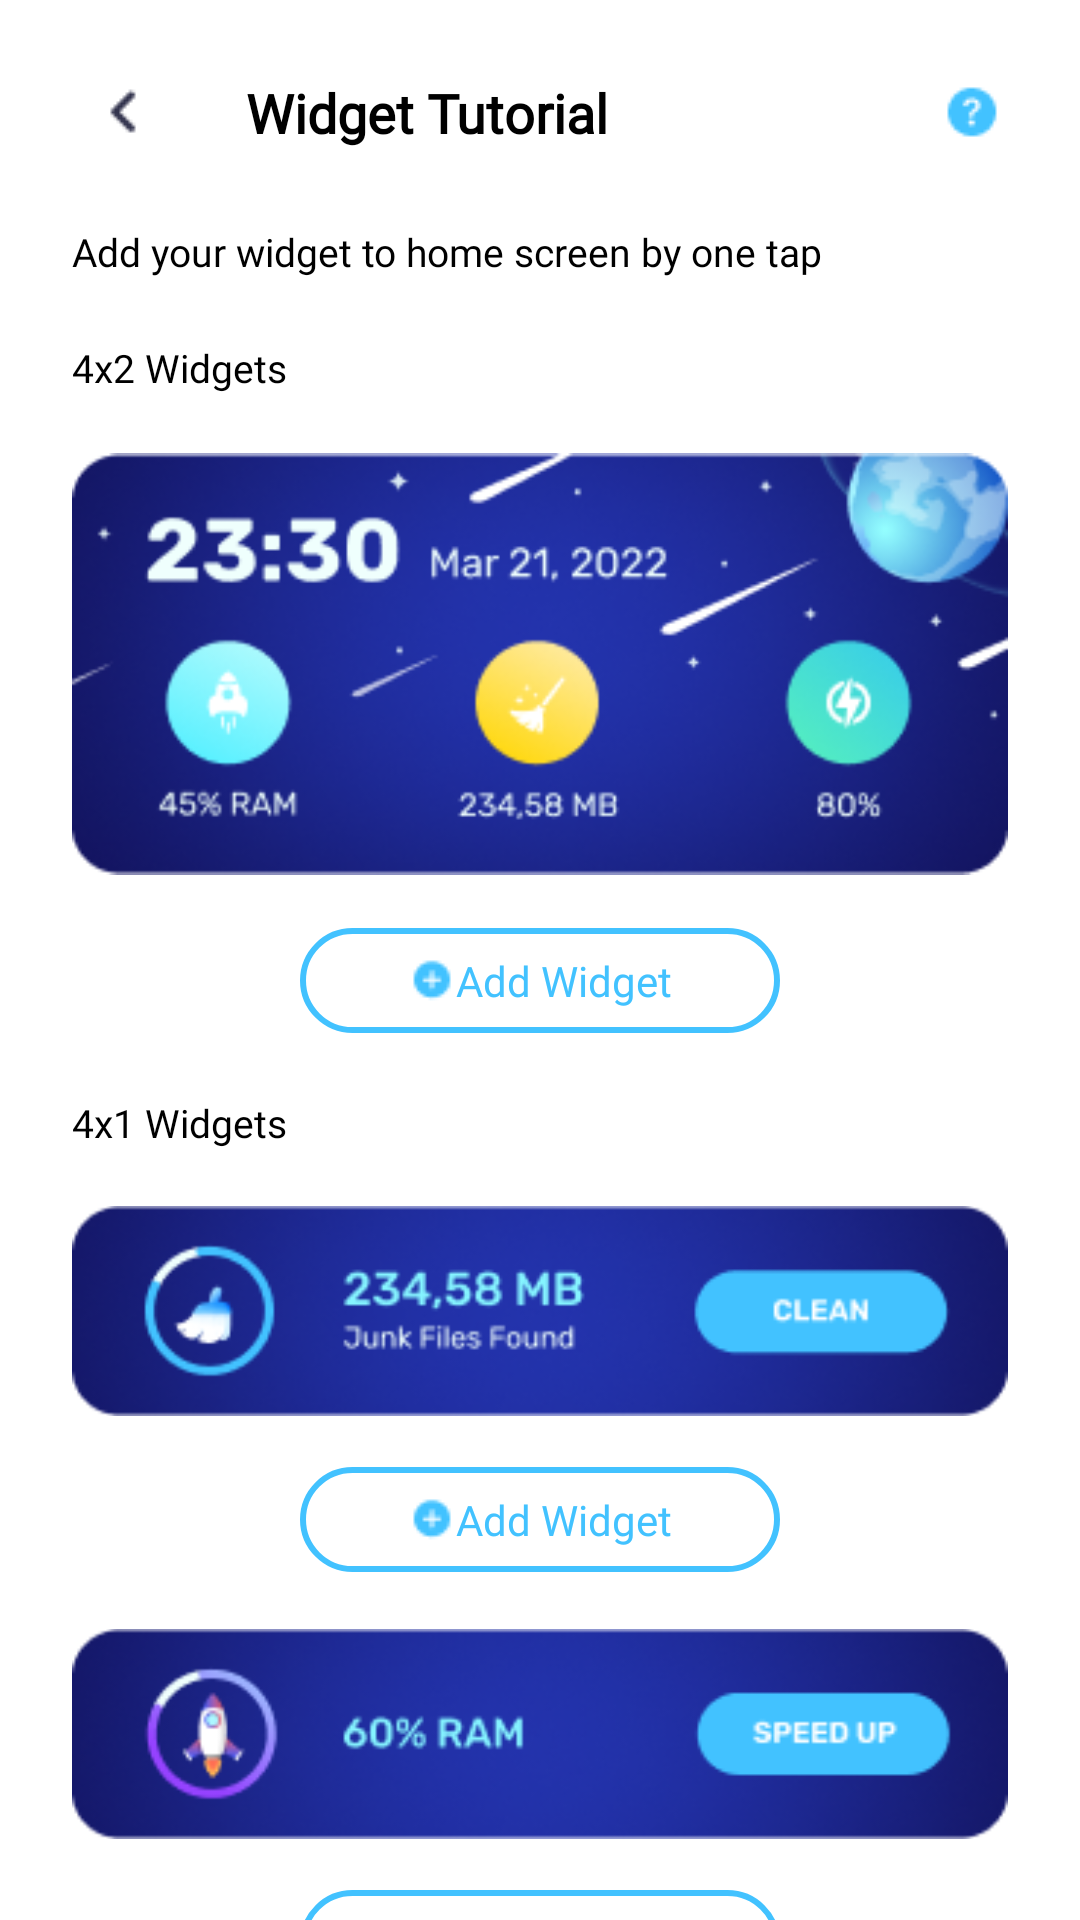

Named icons in this screenshot (1080px×1920px) and their bounding boxes, rect(x1, y1, x2, y2):
back arrow: rect(110, 89, 136, 133)
help: rect(947, 87, 997, 137)
